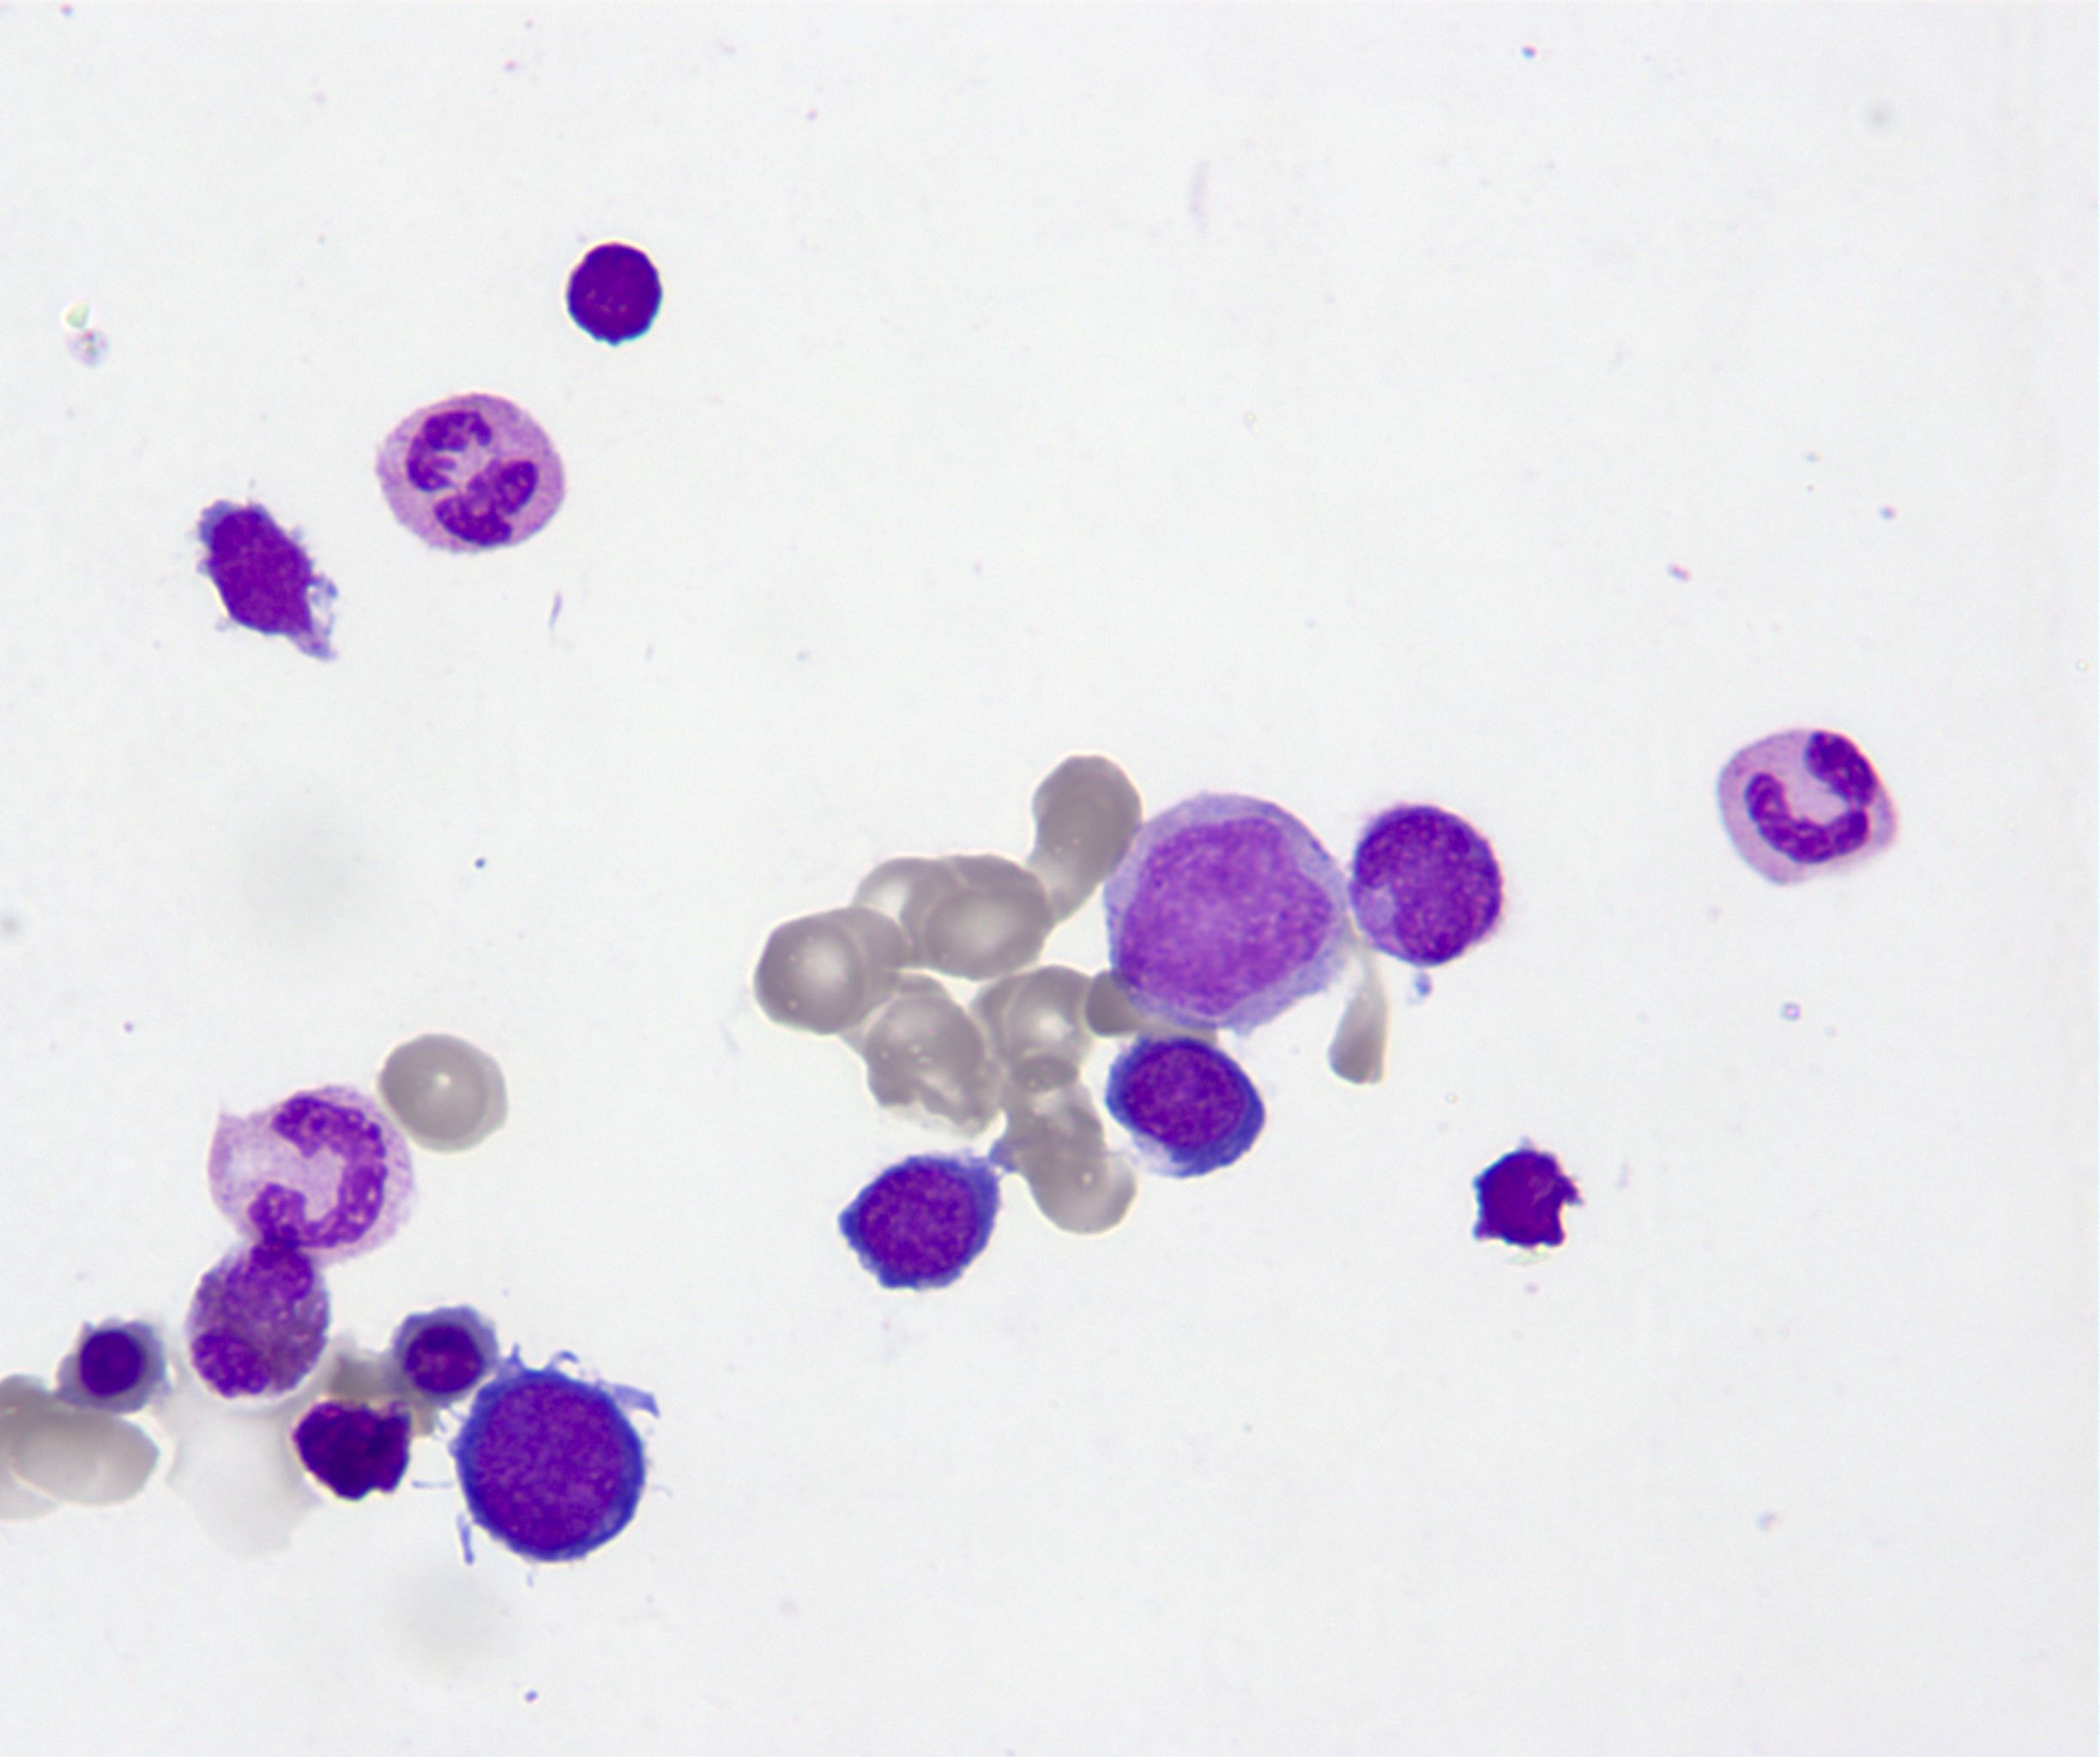23: (448, 1361, 649, 1574)
24: (1102, 1031, 1272, 1190), (832, 1150, 1008, 1296), (385, 1298, 518, 1412), (52, 1309, 171, 1419)
3: (1097, 782, 1359, 1042)
32: (181, 496, 337, 677), (276, 1392, 420, 1513), (1462, 1131, 1587, 1263), (555, 230, 675, 359)
4: (1340, 797, 1507, 974)
5: (197, 1075, 422, 1268), (1711, 717, 1906, 895)
6: (370, 384, 572, 567)
E3: (181, 1244, 335, 1405)
